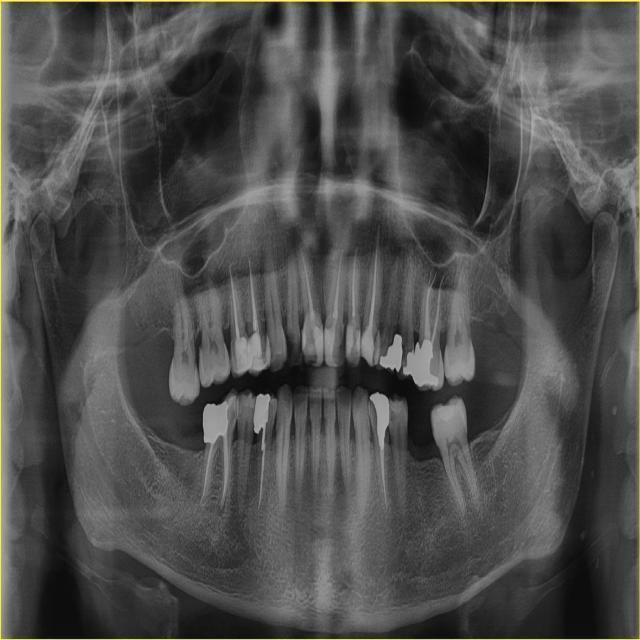Caries: (286, 325, 295, 362), (339, 320, 344, 361), (297, 328, 302, 359), (390, 404, 395, 422)
Filling: (301, 311, 324, 367), (413, 342, 438, 387), (203, 401, 229, 444), (370, 392, 389, 448), (379, 334, 403, 372), (246, 332, 267, 373), (345, 318, 362, 363), (324, 319, 339, 368), (361, 326, 378, 366), (254, 393, 271, 433), (235, 338, 252, 375), (436, 405, 457, 421), (403, 351, 414, 377)
Missing teeth: (155, 402, 209, 452), (406, 408, 441, 460)
Root Canal Treatment: (299, 245, 315, 322), (368, 226, 380, 328), (429, 272, 445, 345), (199, 441, 215, 505), (247, 255, 259, 333), (229, 266, 240, 337), (332, 250, 343, 319), (425, 271, 436, 338), (258, 426, 266, 510), (220, 428, 228, 504), (380, 446, 388, 509), (352, 246, 357, 317), (428, 270, 431, 342)
